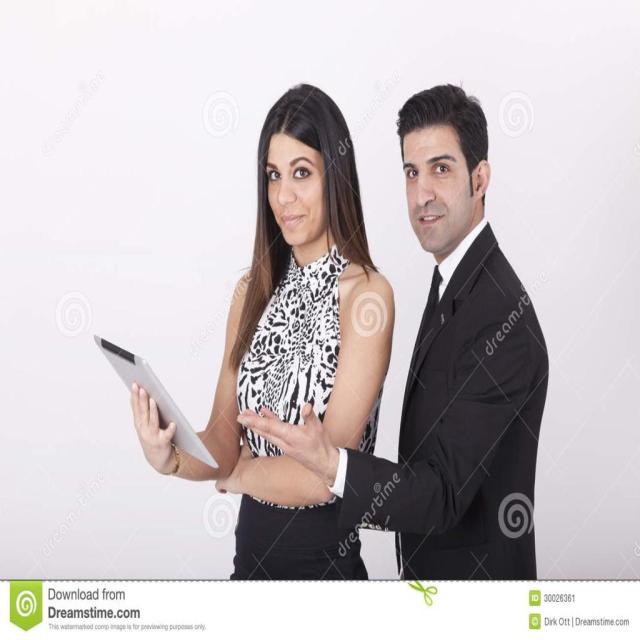Face: (398, 110, 483, 265), (262, 107, 336, 258)
